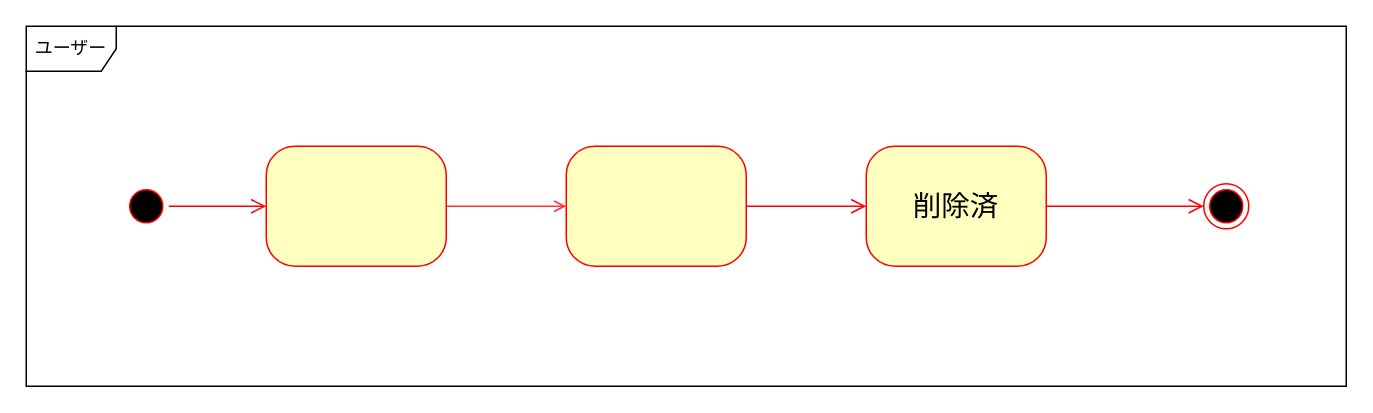
Image size: 1373x413. Some labels were removed from this diagram. Here are the shapes that lost their labels. From the top down, the centre of each, then its label:
At (x=355, y=205): "仮登録".
At (x=655, y=205): "登録済".
